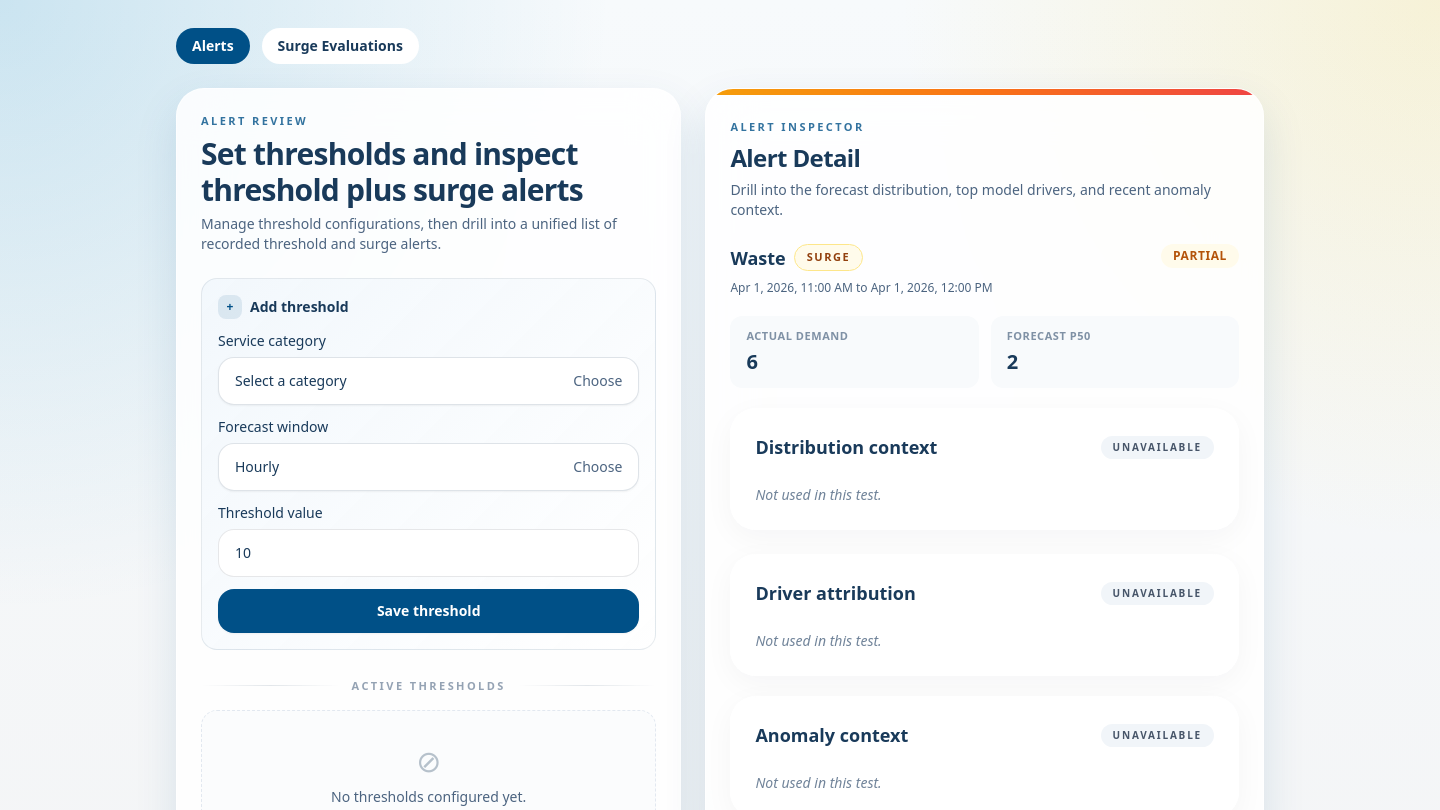
Test case: AlertReviewPage surge evaluation tab › renders surge evaluation and event details on the surge evaluation tab
Click the button "Surge Evaluations": (340, 46) [262,28,419,64]
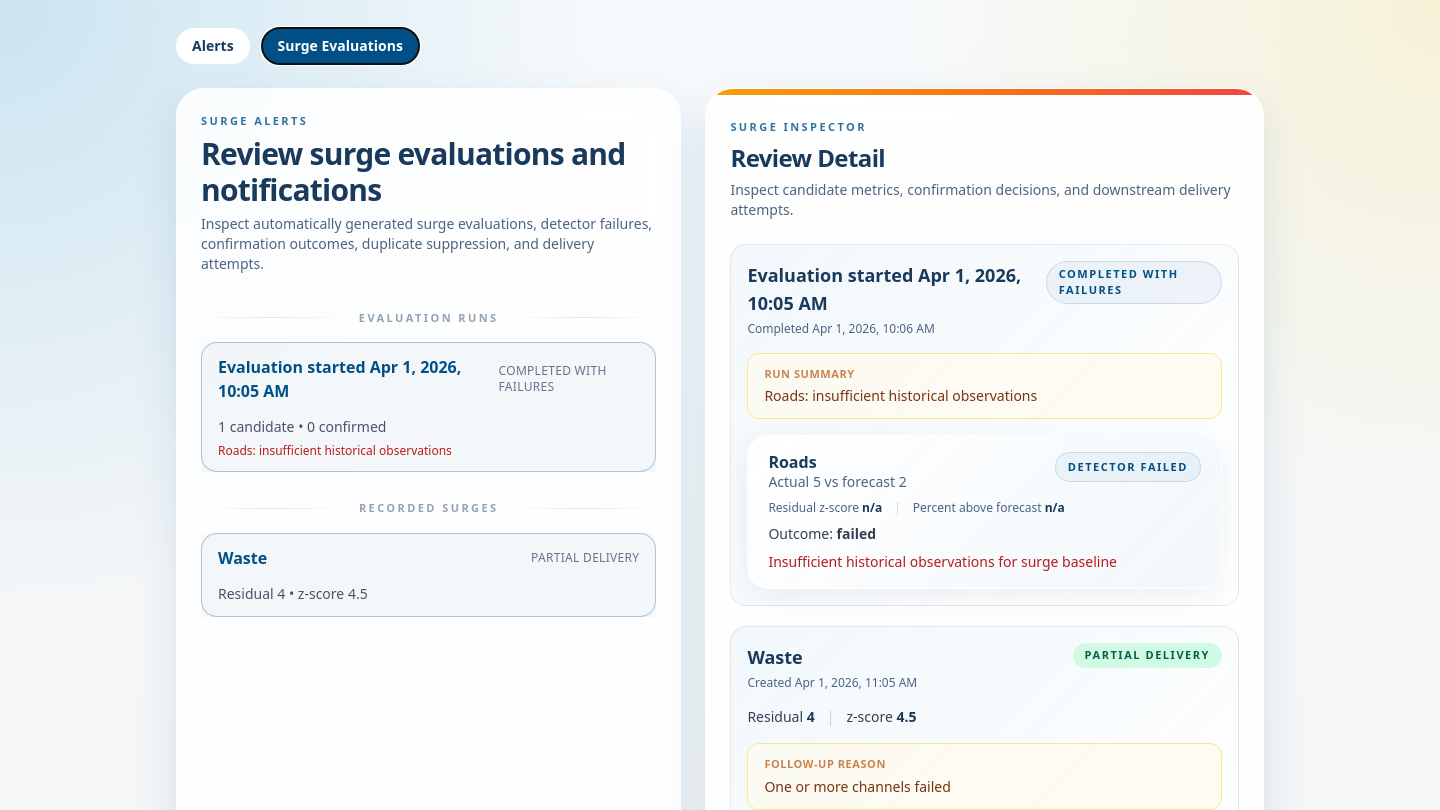
Expected: the heading "Review surge evaluations and notifications" is shown, [201,136,656,208]
Expected: the text "Roads: insufficient historical observations" below "Evaluation Runs" is shown, [218,442,452,459]
Expected: the text "Partial delivery" below "Recorded Surges" is shown, [531,548,639,566]
